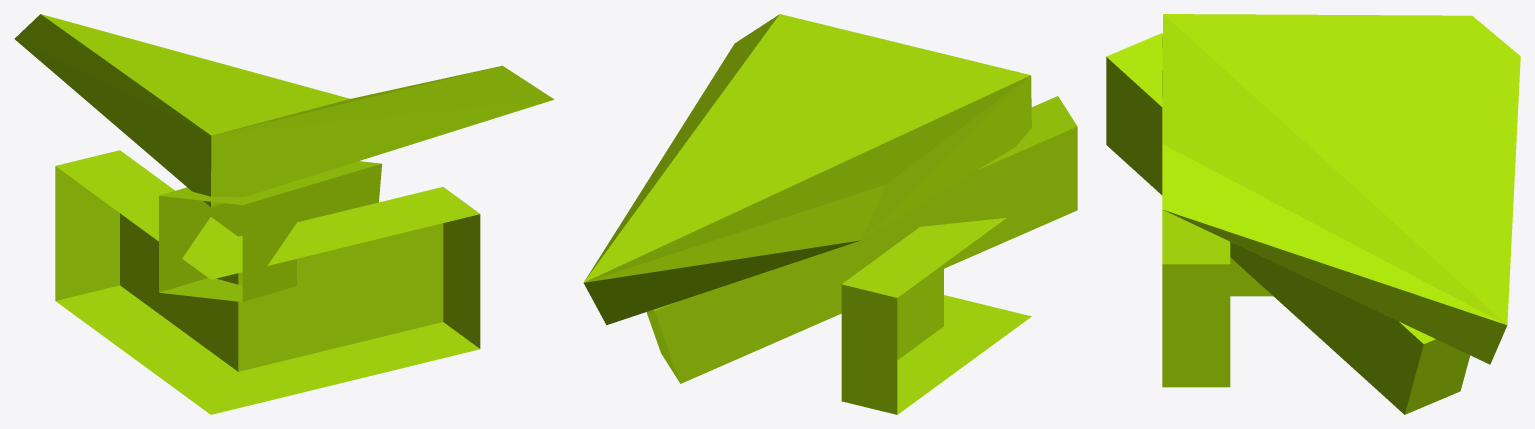
The model's file is WallKit_Valley_End_COL.fbx.
3 views of the same model, side by side, from view 1: azimuth 30°, elevation 25°; view 2: azimuth 150°, elevation 25°; view 3: azimuth 270°, elevation 25° (orthographic). The views are drawn at different scales.
Parts seen in each view (by area): view 1: WallKit_Valley_End_COL; view 2: WallKit_Valley_End_COL; view 3: WallKit_Valley_End_COL.
Part boxes in pixels (x1,y1,x2,y2): WallKit_Valley_End_COL: (14,14,554,414); WallKit_Valley_End_COL: (583,14,1077,414); WallKit_Valley_End_COL: (1106,14,1520,414).
Size of the model in its own units: 127 by 90.82 by 126.
